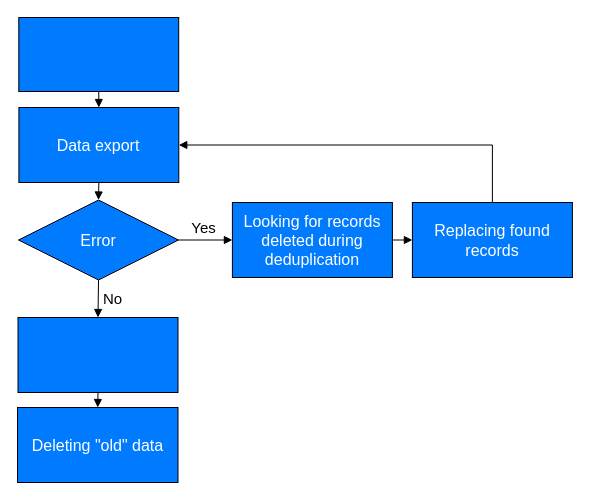
This 590x500 diagram has some shape labels left out. Here are the shapes that lost their labels. From the top down, the box of each, then its label:
(18, 16, 179, 92): Looking for duplicates
(17, 316, 178, 392): Data import
